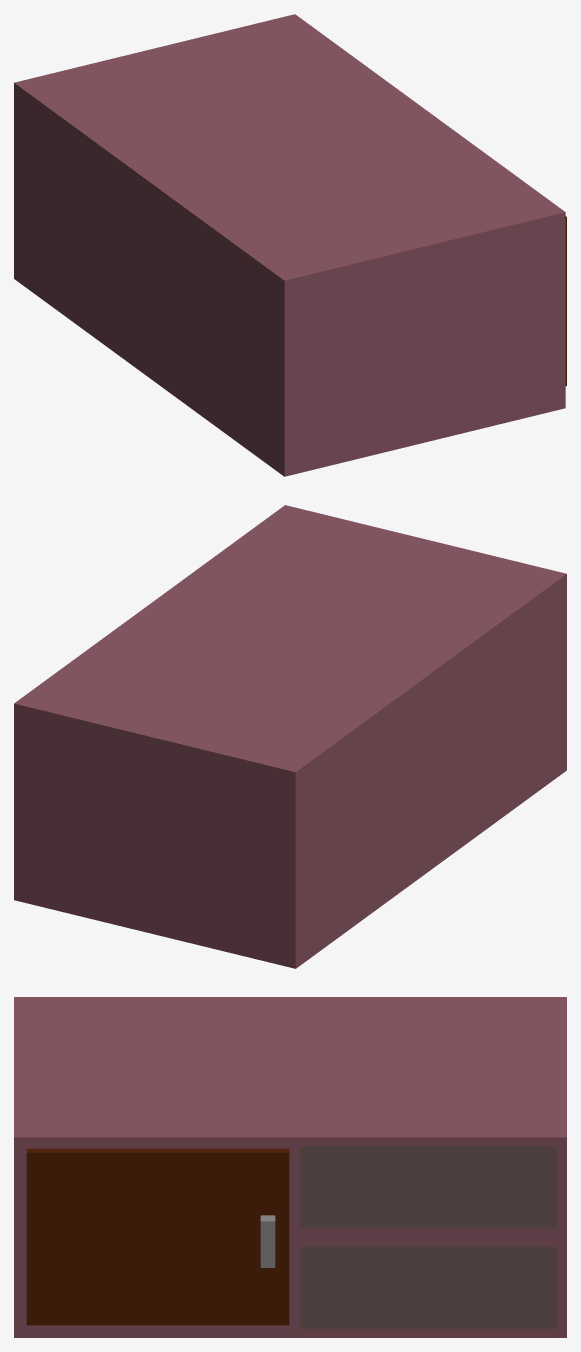
The model's file is Res01_Kitchen_HangBox5.fbx.
3 renders of one model, top to bottom at view 1: azimuth 30°, elevation 25°; view 2: azimuth 150°, elevation 25°; view 3: azimuth 270°, elevation 25°, orthographic. The views are drawn at different scales.
Parts seen in each view (by area): view 1: Res01_Kitchen_HangBox5; view 2: Res01_Kitchen_HangBox5; view 3: Res01_Kitchen_HangBox5.
Boxes of the visible parts, bbox=[...] form: Res01_Kitchen_HangBox5: bbox=[14, 14, 566, 476]; Res01_Kitchen_HangBox5: bbox=[14, 505, 566, 968]; Res01_Kitchen_HangBox5: bbox=[14, 997, 566, 1337].
Bounding box in the file's own units: 128 × 80 × 200.
